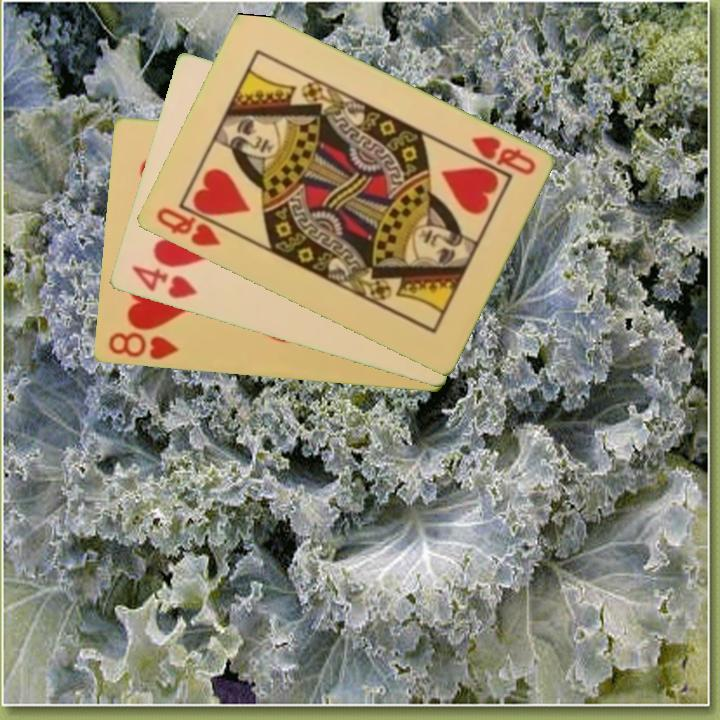4h: (128, 263, 199, 302)
8h: (105, 329, 181, 363)
Qh: (152, 203, 233, 250), (467, 132, 538, 179)
